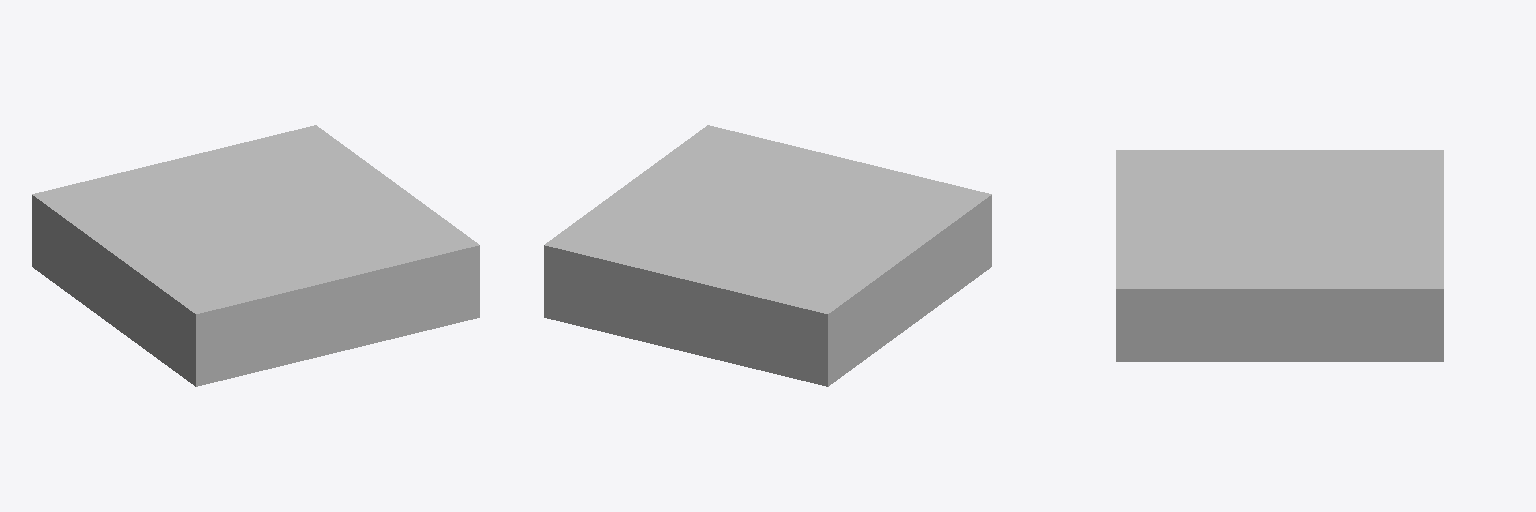
File: lampu wc.obj
3 views of the same model, side by side, from view 1: azimuth 30°, elevation 25°; view 2: azimuth 150°, elevation 25°; view 3: azimuth 270°, elevation 25° (orthographic).
Visible parts, largest first — view 1: Cube_Cube.001; view 2: Cube_Cube.001; view 3: Cube_Cube.001.
Part boxes in pixels (left/top/right/bottom): Cube_Cube.001: left=32, top=125, right=479, bottom=386; Cube_Cube.001: left=544, top=125, right=991, bottom=386; Cube_Cube.001: left=1116, top=150, right=1443, bottom=361.
Bounding box in the file's own units: 0.5814 × 0.1416 × 0.5814.